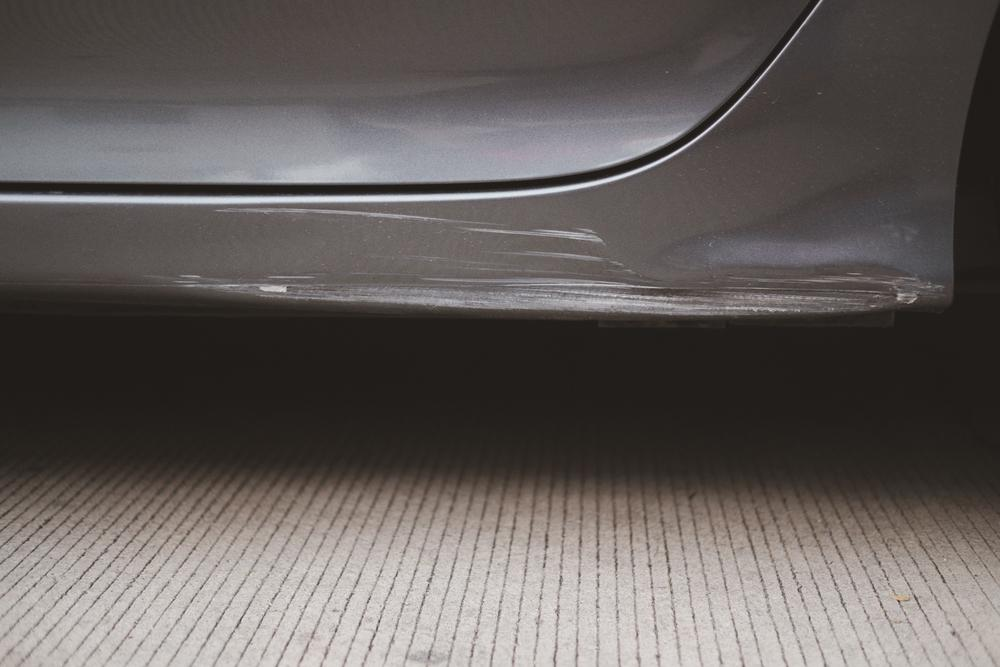dent: (662, 142, 959, 277)
scratch: (161, 201, 939, 317)
